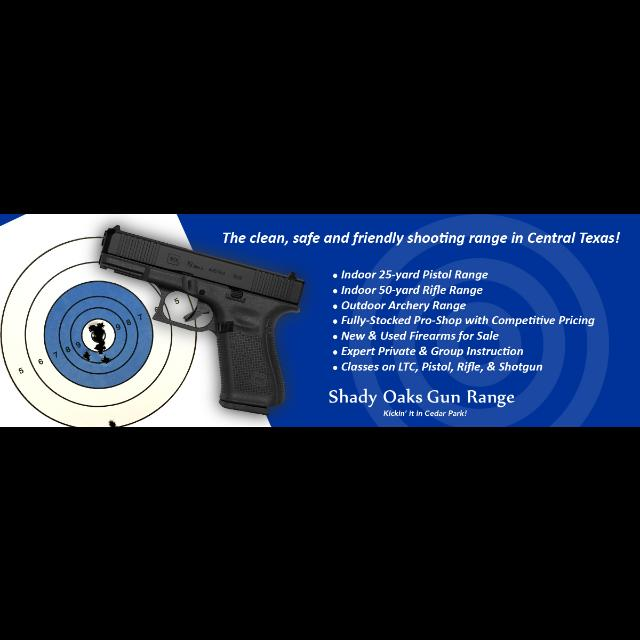handgun: (96, 221, 308, 417)
